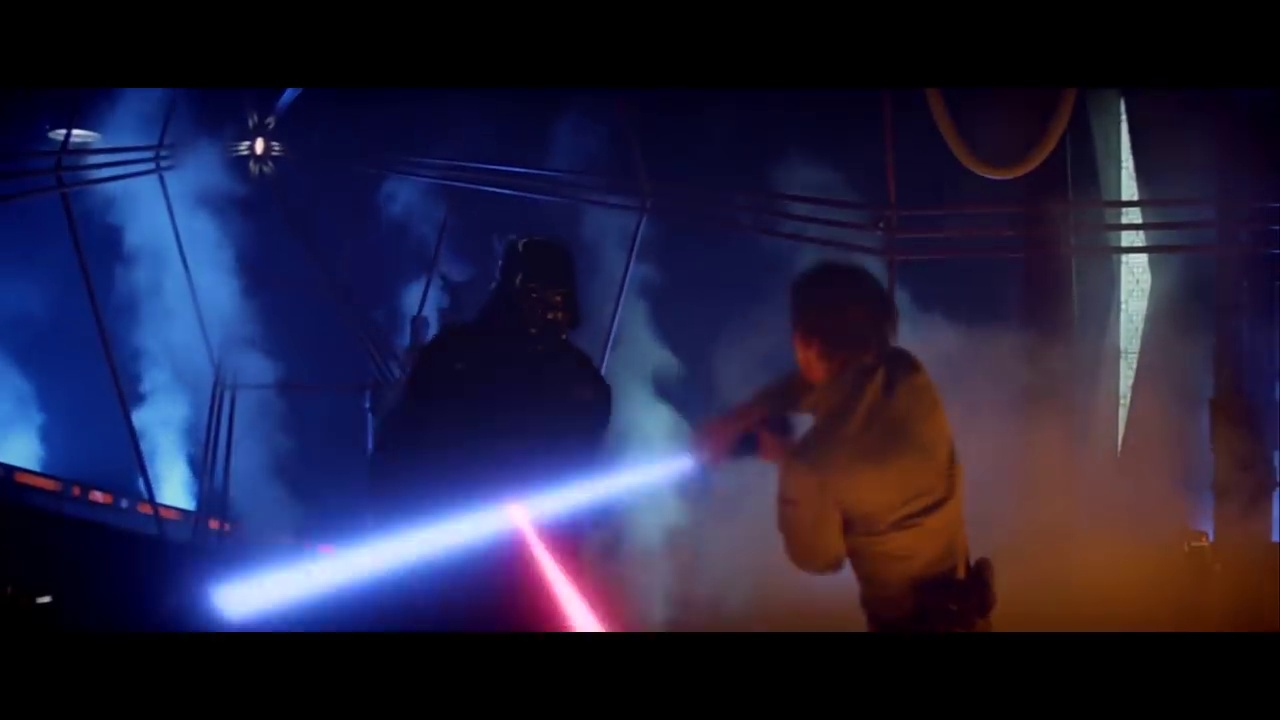lightsaber: (197, 403, 785, 630)
